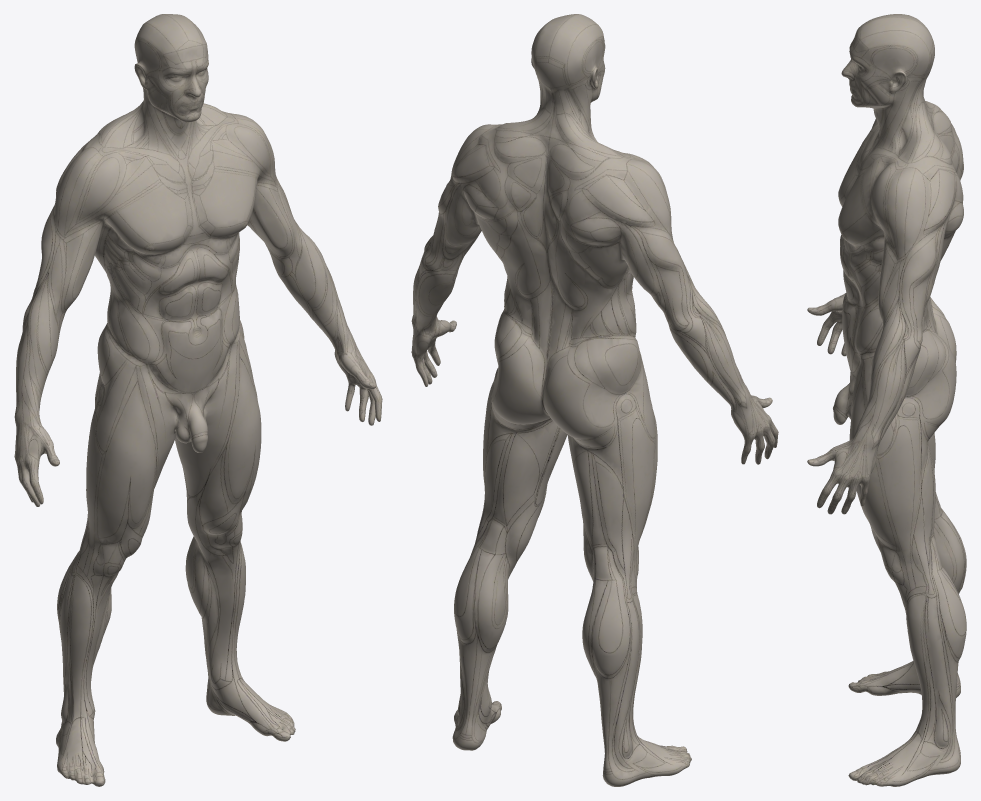
The model's file is 人物其它_20260324183633_opt.glb.
3 renders of one model, left to right at view 1: azimuth 30°, elevation 25°; view 2: azimuth 150°, elevation 25°; view 3: azimuth 270°, elevation 25°, orthographic.
Visible parts, largest first — view 1: MaleSuperHeroLowPolyTriangulatedUv; view 2: MaleSuperHeroLowPolyTriangulatedUv; view 3: MaleSuperHeroLowPolyTriangulatedUv.
Part boxes in pixels (x1,y1,x2,y2): MaleSuperHeroLowPolyTriangulatedUv: [14, 14, 382, 786]; MaleSuperHeroLowPolyTriangulatedUv: [411, 14, 778, 786]; MaleSuperHeroLowPolyTriangulatedUv: [807, 14, 966, 786].
Size of the model in its own units: 1.02 by 2 by 0.4014.
1 material, 1 textured.
